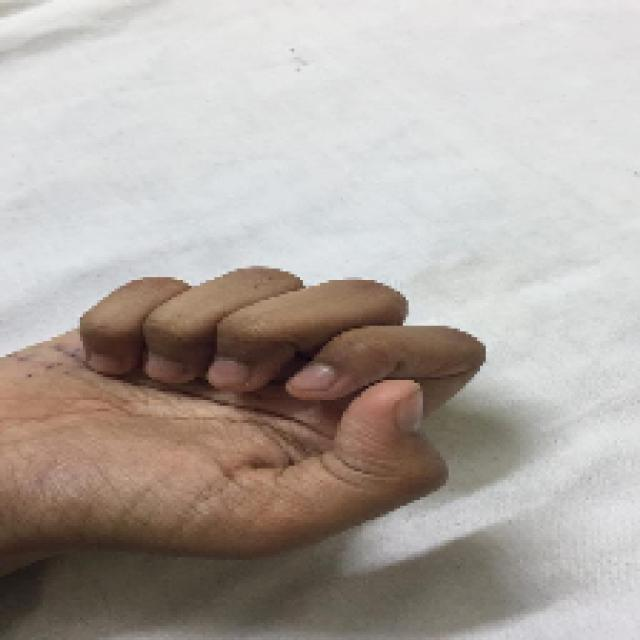Nail: (209, 358, 249, 389), (396, 390, 422, 434), (291, 365, 336, 389), (146, 355, 182, 382), (90, 355, 120, 373)
